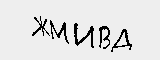В: (100, 24, 110, 51)
Д: (110, 27, 135, 54)
Ж: (32, 15, 51, 39)
И: (73, 22, 97, 50)
М: (47, 20, 71, 43)
